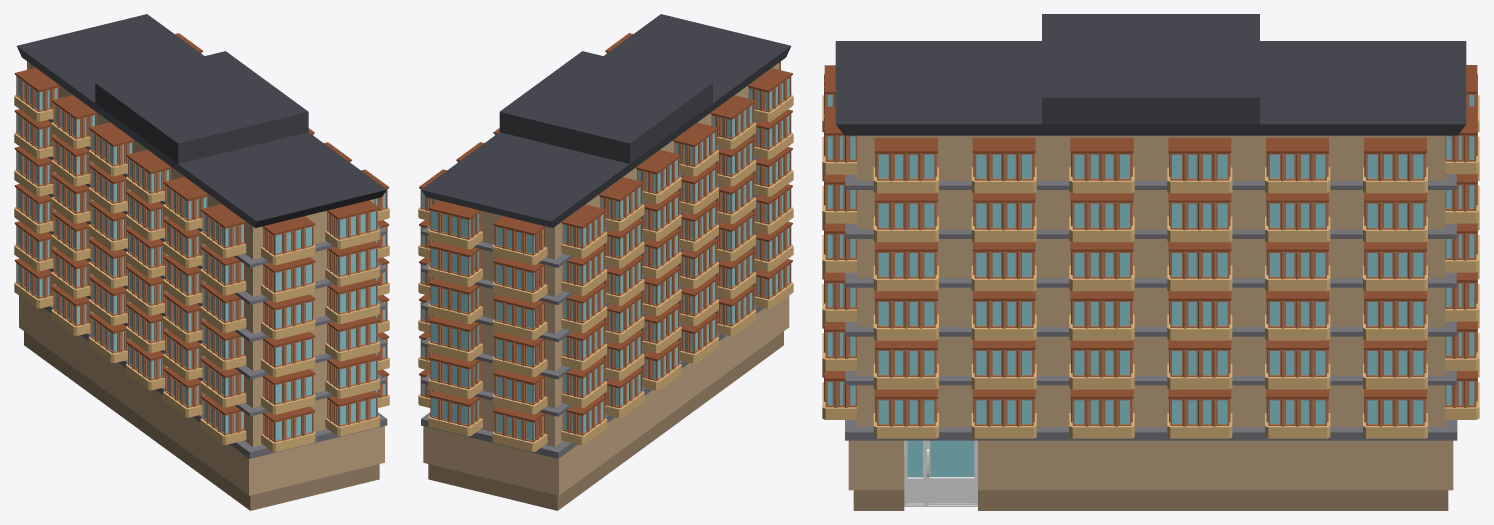
The model's file is building4.fbx.
3 renders of one model, left to right at view 1: azimuth 30°, elevation 25°; view 2: azimuth 150°, elevation 25°; view 3: azimuth 270°, elevation 25°, orthographic. The views are drawn at different scales.
Parts seen in each view (by area): view 1: Base4, Window3.002, Window4.002, Window1.002; view 2: Base4, Window3.002, Window2.002, Window1.002; view 3: Base4, Window1.002, Window2.002, Window4.002.
Part boxes in pixels (left/top/right/bottom): Base4: left=17, top=14, right=387, bottom=510; Window3.002: left=14, top=68, right=246, bottom=444; Window4.002: left=261, top=200, right=380, bottom=451; Window1.002: left=175, top=33, right=389, bottom=407; Base4: left=421, top=14, right=791, bottom=510; Window3.002: left=561, top=68, right=793, bottom=445; Window2.002: left=428, top=200, right=547, bottom=451; Window1.002: left=418, top=33, right=632, bottom=407; Base4: left=835, top=14, right=1466, bottom=510; Window1.002: left=873, top=137, right=1427, bottom=438; Window2.002: left=1445, top=65, right=1479, bottom=419; Window4.002: left=822, top=65, right=856, bottom=419.
Bounding box in the file's own units: 427 × 770 × 1109.
